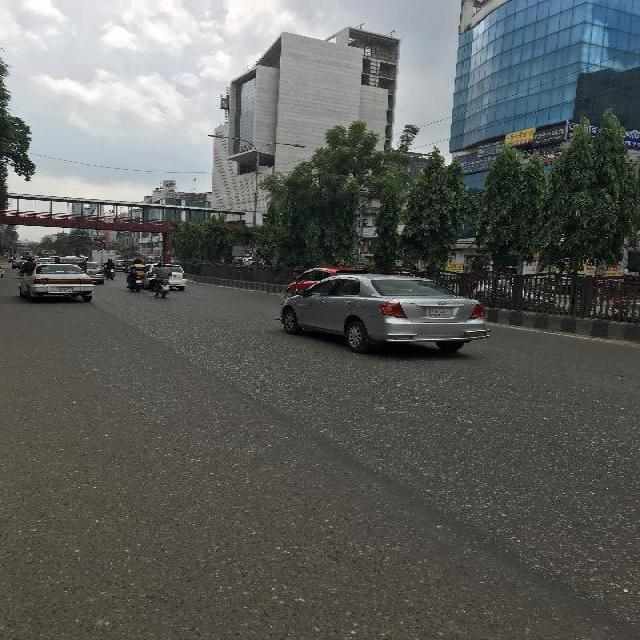bus: (139, 252, 160, 262), (38, 248, 55, 258), (23, 250, 38, 256)
car: (272, 273, 492, 351), (17, 264, 95, 302), (285, 266, 371, 298), (142, 261, 186, 289), (86, 261, 103, 283), (116, 259, 128, 271), (37, 258, 54, 264), (11, 258, 21, 268)
motorbike: (148, 262, 172, 298), (124, 258, 148, 292), (101, 258, 115, 280)
pickup: (87, 248, 116, 272)
three wheelers -CNG-: (54, 256, 85, 274)
